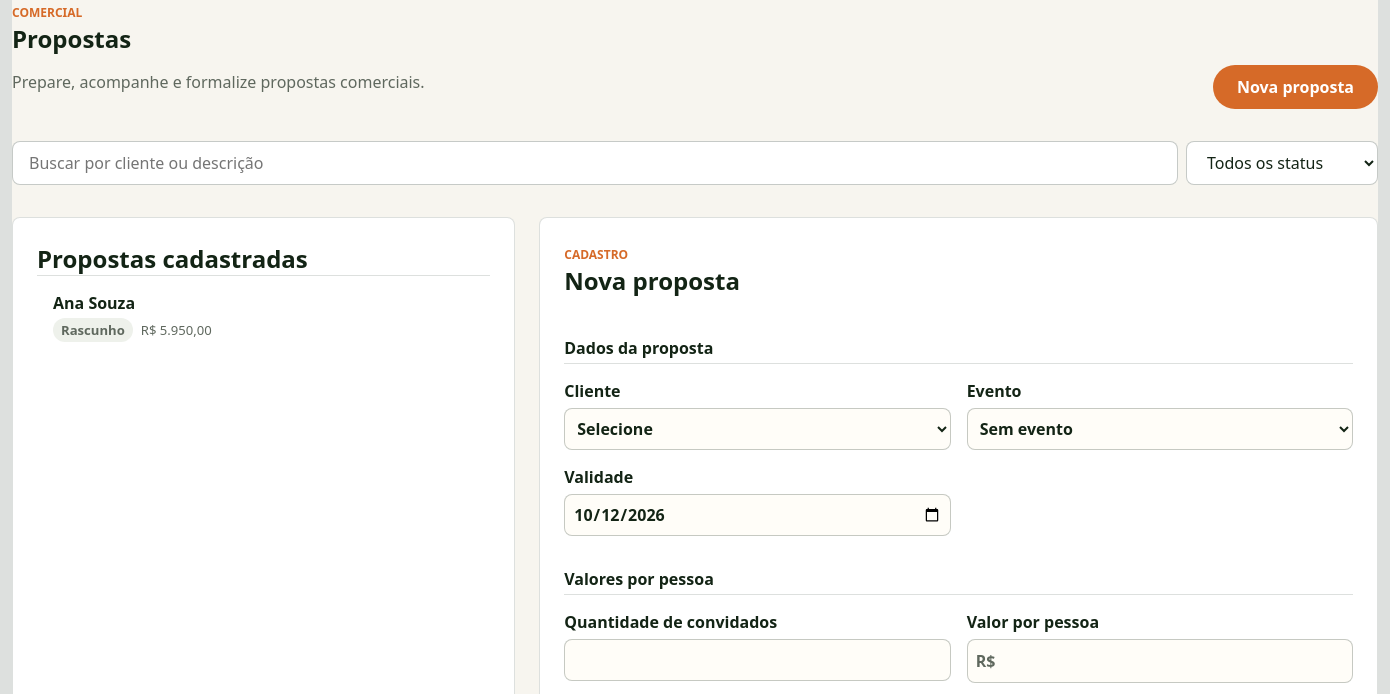
Test: AdminProposalsPage › rehydrates all persisted items and monetary values when reopening a proposal
The image size is (1390, 694).
Click the button "Ana Souza Rascunho R$ 5.950,00".
click(94, 303)  # box x1=37 y1=275 x2=490 y2=358
(page scrolled)
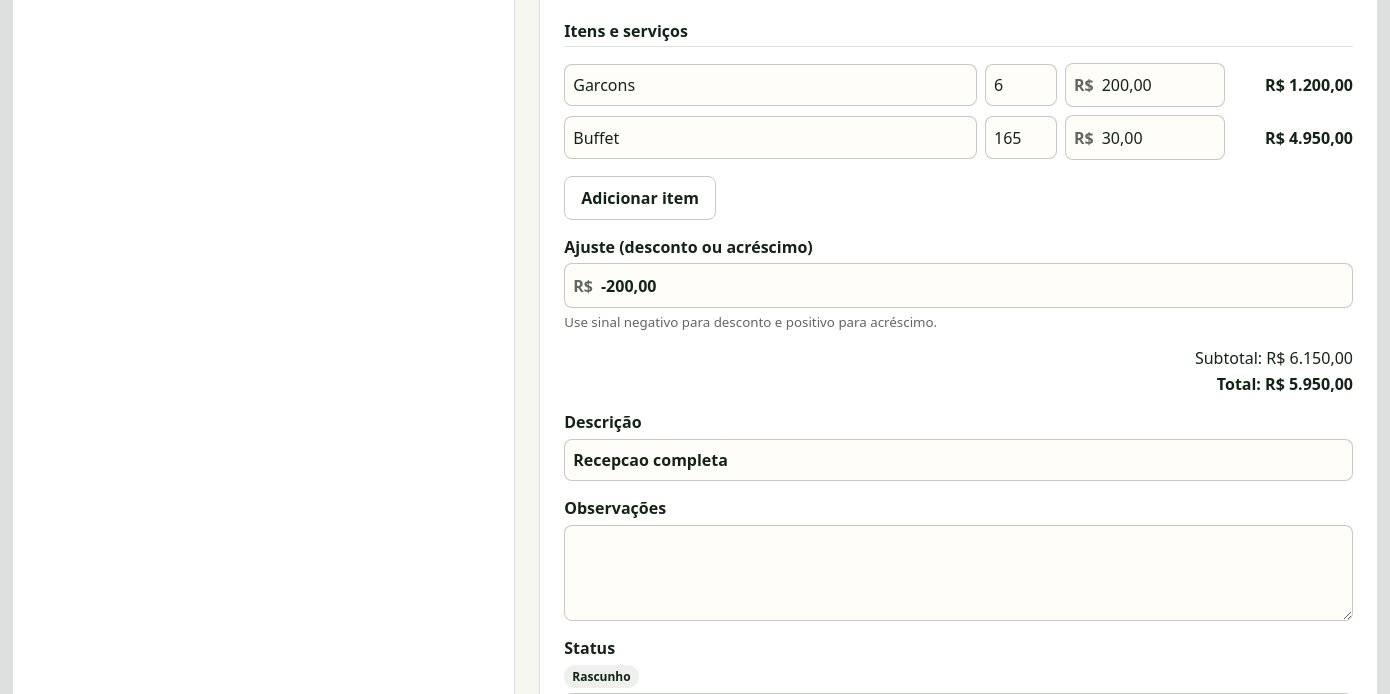
Now the field showing "Garcons" in the row of "R$ 1.200,00" is shown, box x1=564 y1=64 x2=977 y2=106
Now the field showing "Buffet" in the row of "R$ 4.950,00" is shown, box x1=564 y1=116 x2=977 y2=159
Now the number field named "Quantidade do item 1" holds "6", box x1=985 y1=64 x2=1057 y2=106
